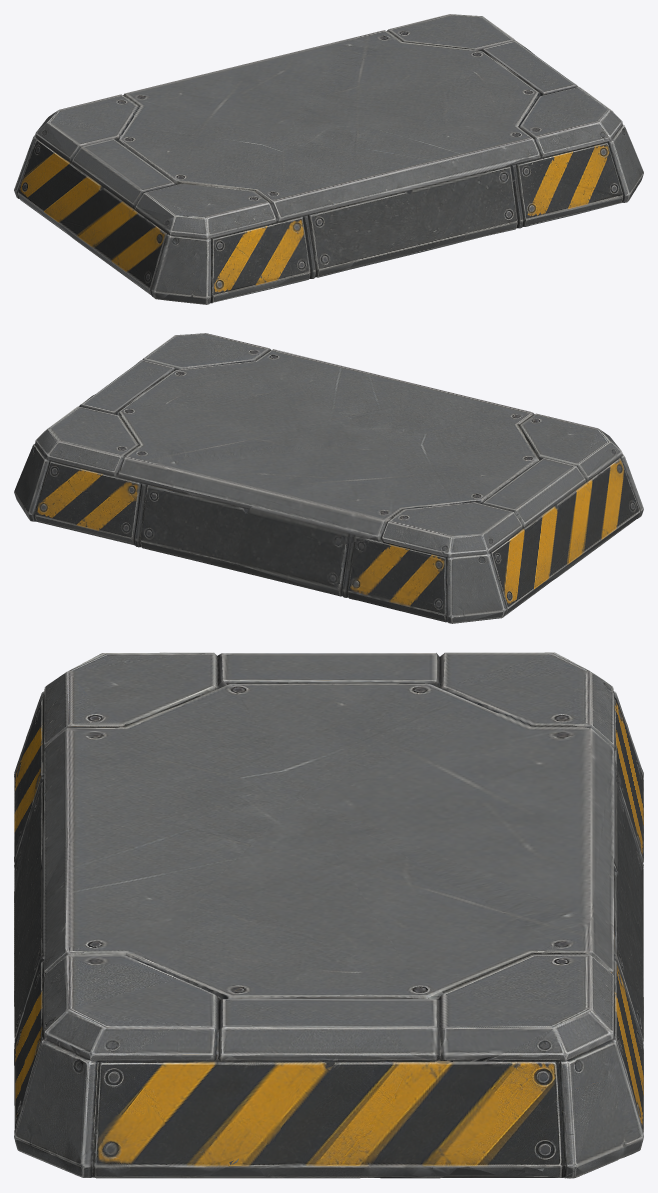
File: low_steel_barrier.glb
3 renders of one model, top to bottom at view 1: azimuth 30°, elevation 25°; view 2: azimuth 150°, elevation 25°; view 3: azimuth 270°, elevation 25°, orthographic. The views are drawn at different scales.
Visible parts, largest first — view 1: output_unwrapped; view 2: output_unwrapped; view 3: output_unwrapped.
Boxes of the visible parts, x1,y1,x2,y2 form: output_unwrapped: (14,14,643,304); output_unwrapped: (14,333,643,623); output_unwrapped: (14,652,643,1178).
Bounding box in the file's own units: 1.9 × 0.2821 × 1.2.
1 material, 1 textured.
